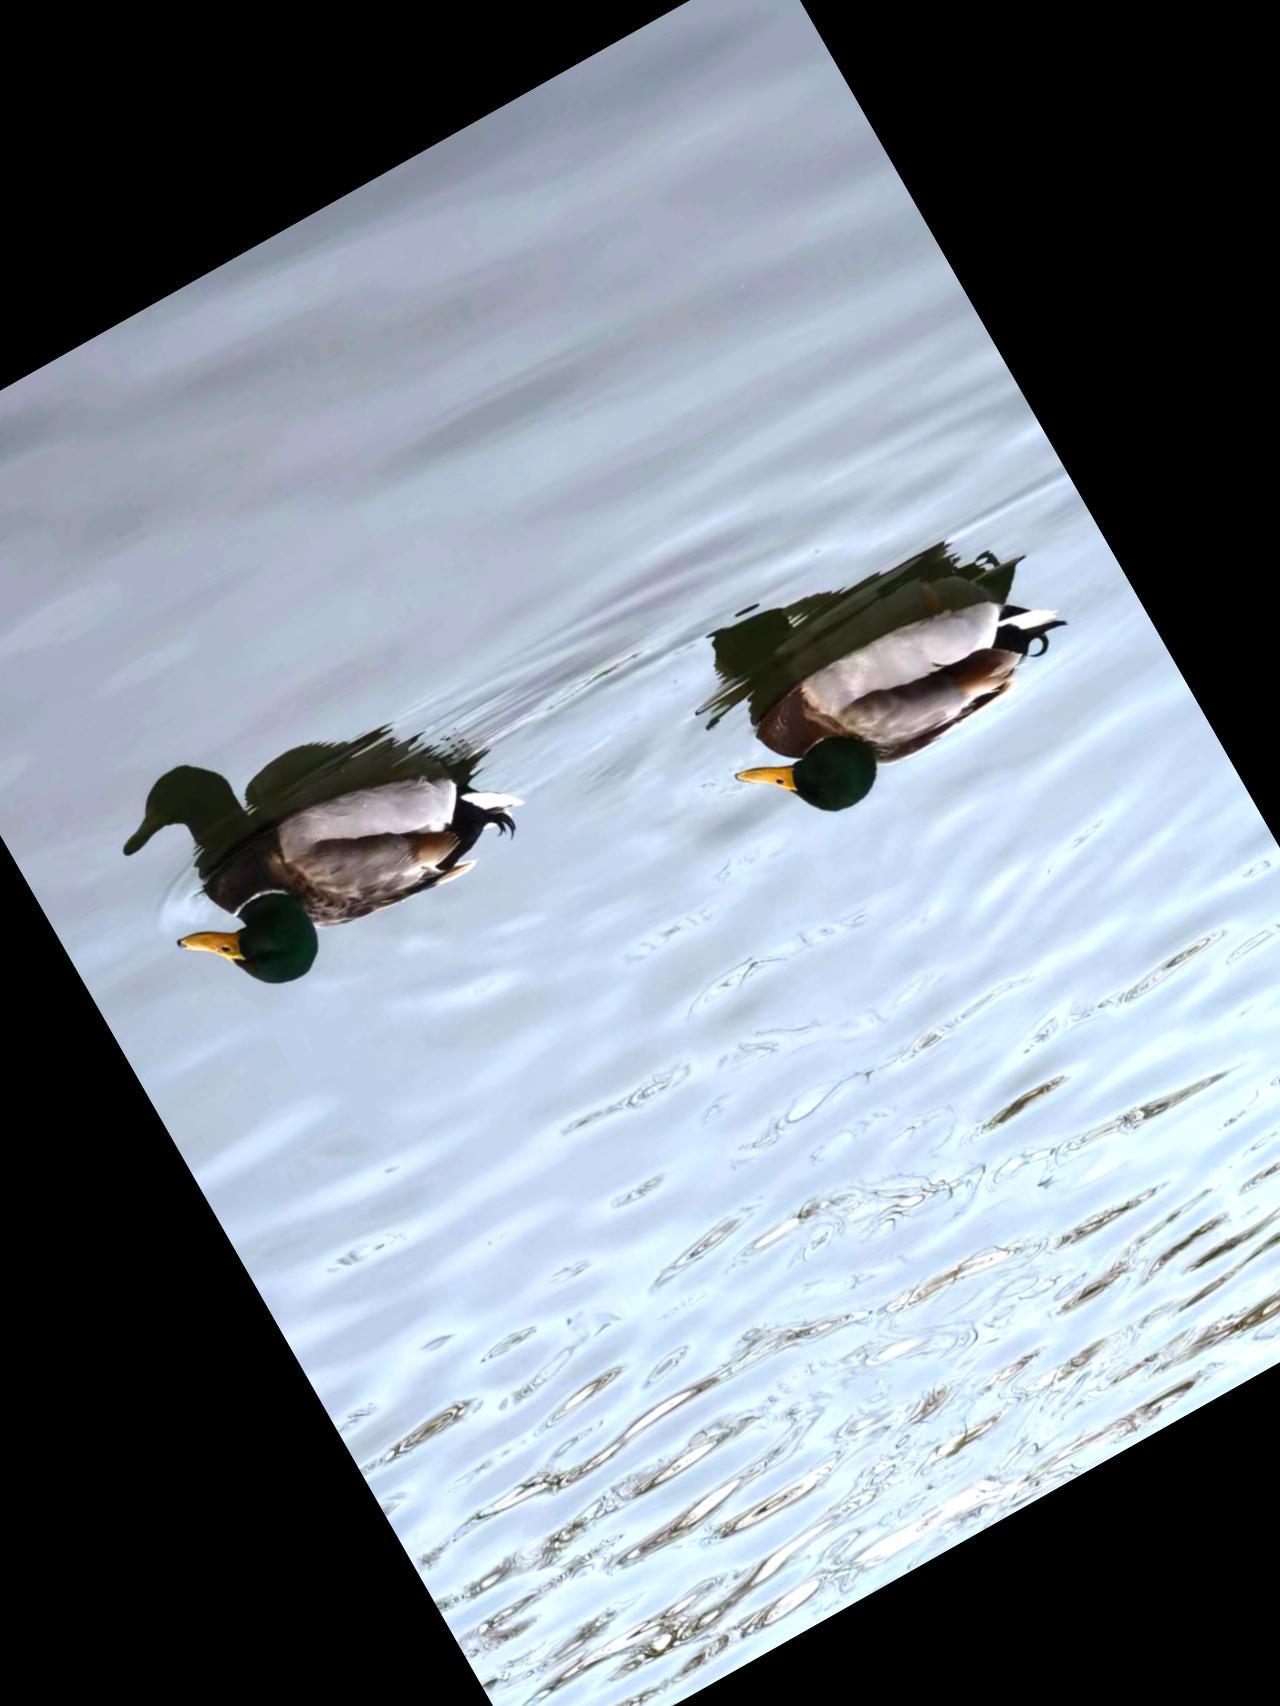duck: (670, 501, 1109, 879), (141, 692, 570, 1047)
